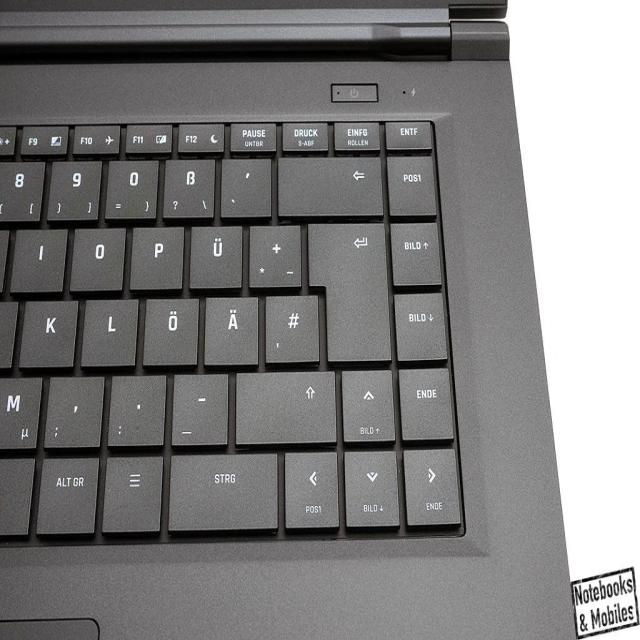0: (103, 154, 160, 218)
8: (2, 157, 45, 220)
9: (44, 157, 102, 220)
accent: (218, 152, 271, 215)
ae: (201, 293, 260, 365)
altgr-right: (33, 452, 99, 538)
comma: (41, 371, 105, 448)
del: (275, 152, 384, 215)
enter: (304, 216, 391, 361)
hash: (261, 290, 320, 363)
i: (8, 223, 68, 292)
k: (16, 295, 78, 368)
keyboard: (3, 98, 488, 556)
l: (78, 295, 138, 368)
m: (2, 371, 40, 450)
minus: (169, 369, 229, 446)
o: (67, 223, 126, 290)
oe: (140, 294, 200, 366)
p: (126, 222, 185, 289)
plus: (246, 220, 301, 286)
point: (104, 370, 167, 447)
shift-right: (231, 366, 338, 445)
ss: (161, 155, 215, 218)
strg-right: (165, 449, 282, 533)
ue: (186, 220, 244, 288)
